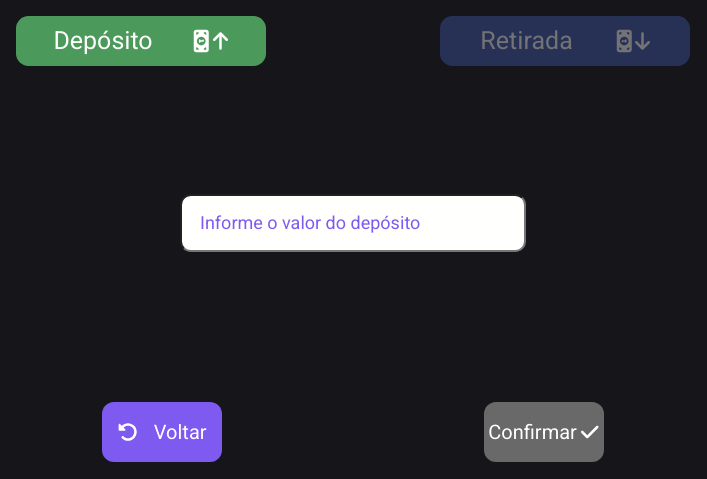
Test: Teste o componente TransactionForms › Teste se ao preencher corretamente os inputs o botão confirmar é habilitado
The image size is (707, 479).
Check: the button "Confirmar" is disabled, box [484,402,604,462]
In the number field: (353, 223) [180,194,526,252], type "100"
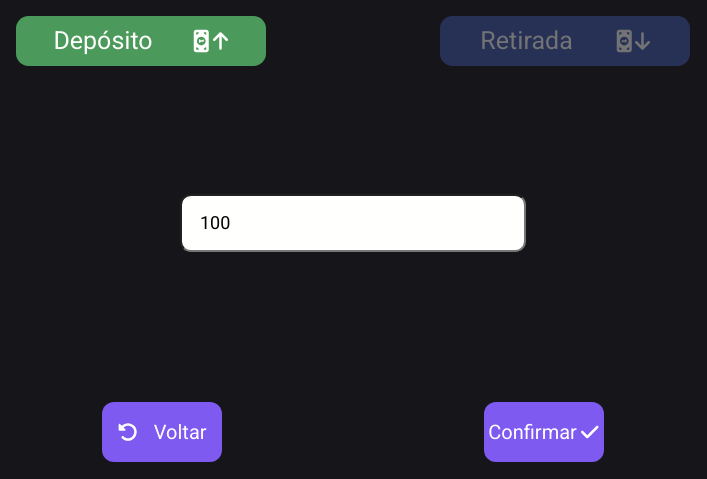
Check: the button "Confirmar" is enabled, box [484,402,604,462]
